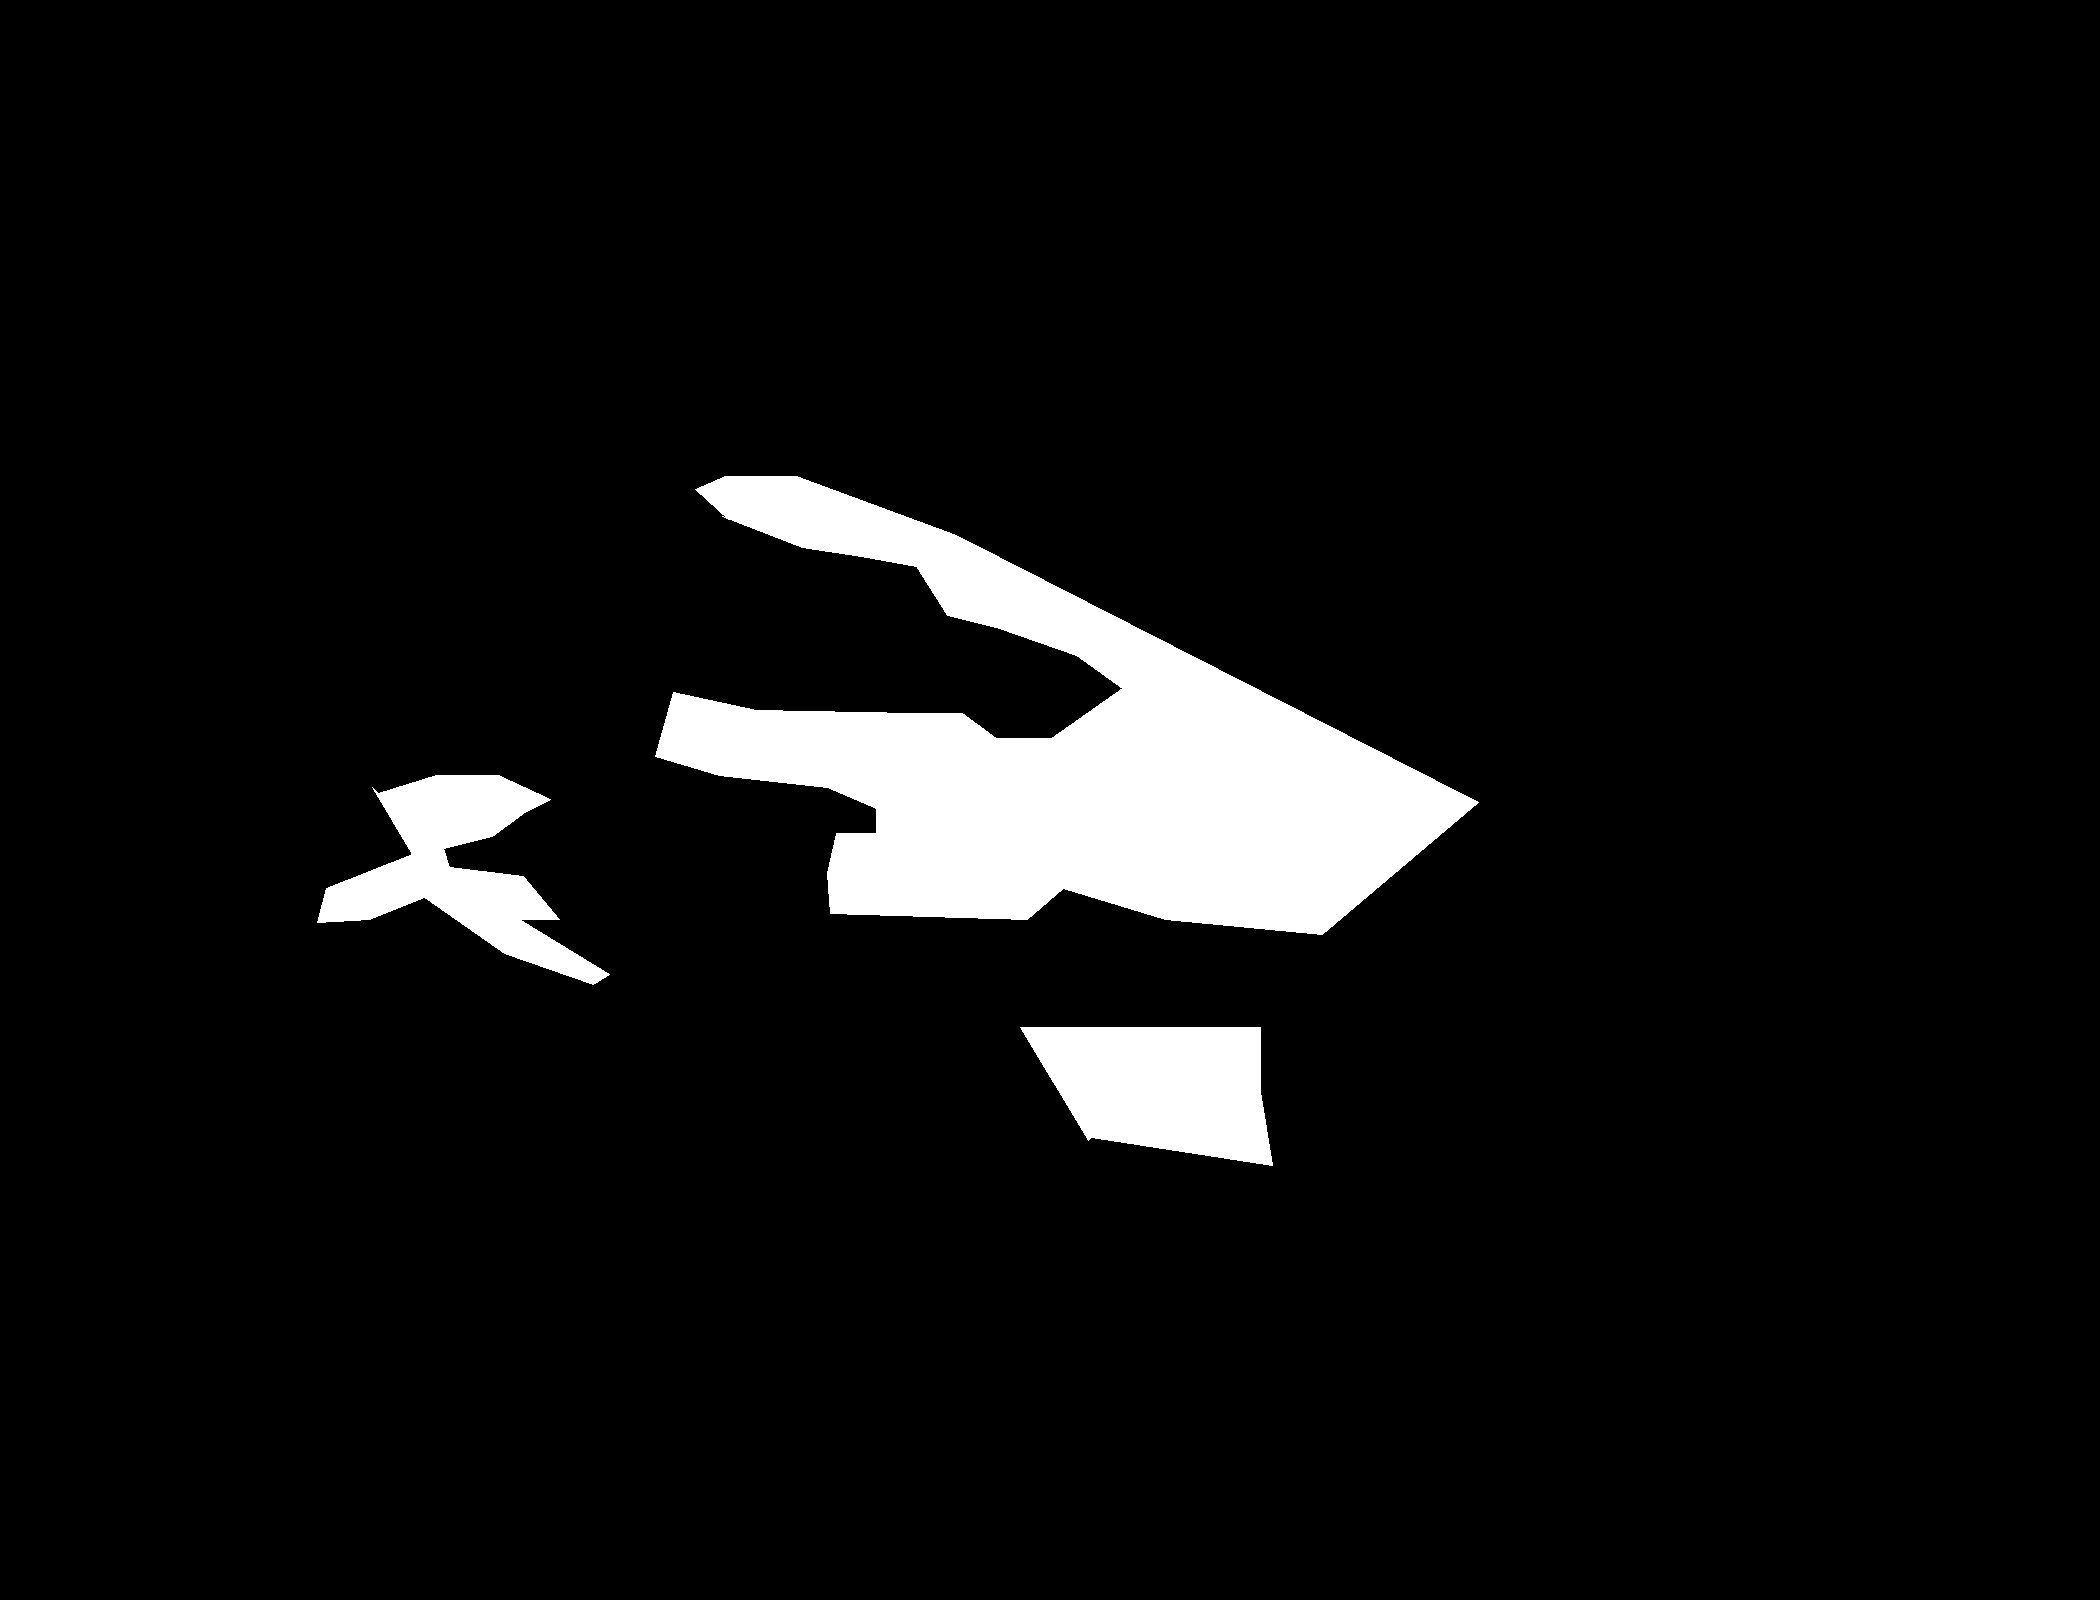Fire: (702, 489, 1342, 971), (328, 755, 628, 1008), (1047, 1027, 1485, 1192)
